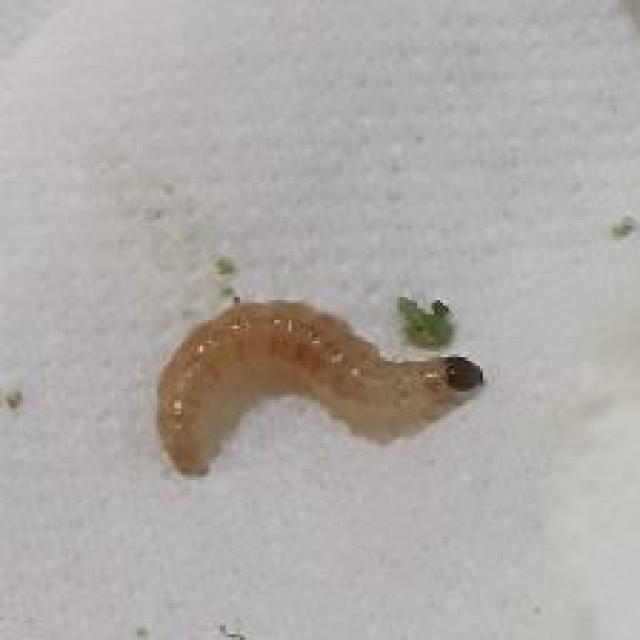white mucus: (110, 278, 540, 491)
